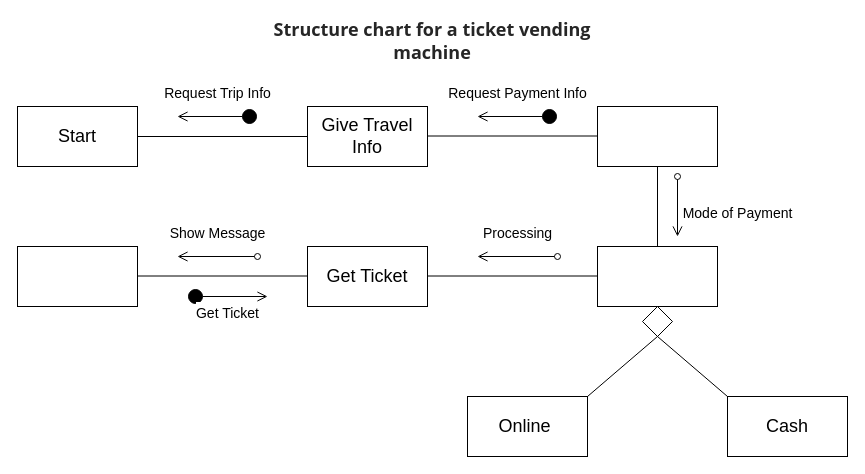
The diagram is 865 pixels wide and 474 high, and some of its shapes have lost their labels. The shapes that lost their labels are listed below. From the top down, each one's centre as x and y in pixels, then its label:
At point (657, 136): "Payment Info".
At point (77, 276): "Message".
At point (657, 276): "Payment".
